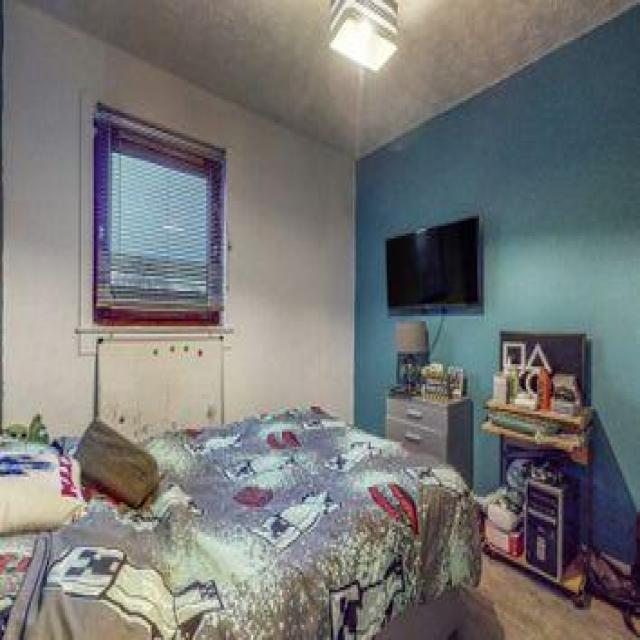Wall: (355, 5, 640, 561), (3, 2, 353, 432), (28, 0, 640, 157), (461, 554, 634, 639)
